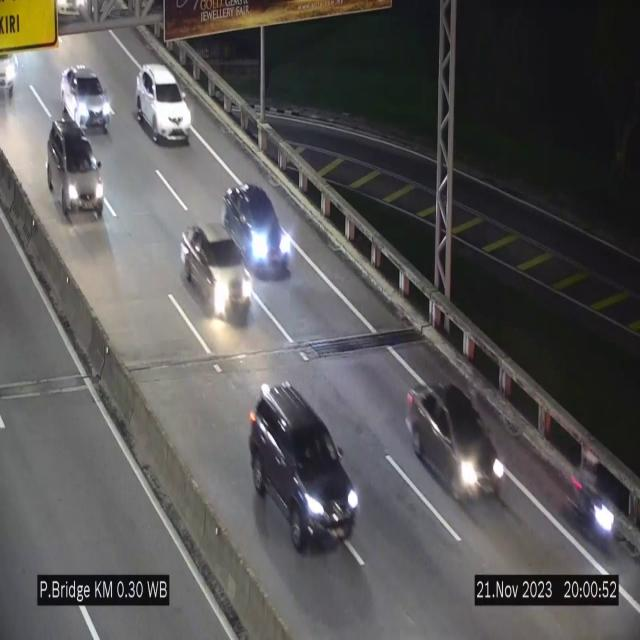Car: (249, 382, 359, 550), (406, 379, 506, 509), (182, 218, 256, 327), (47, 118, 105, 220), (223, 184, 285, 274), (136, 64, 192, 143), (62, 66, 112, 131)
Motorcycle: (569, 446, 615, 559)
